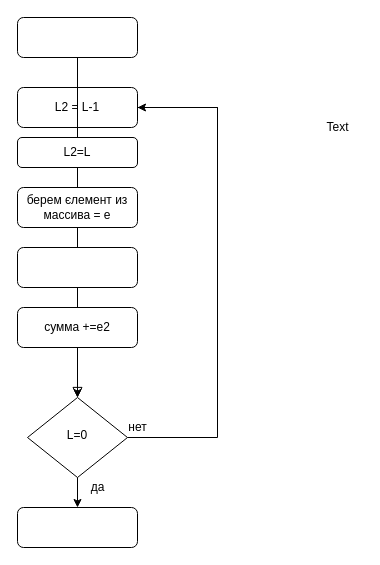
This 380x565 diagram has some shape labels left out. The centre of each missing label's shape, as x and y in pixels:
Maccив L= длинна: (77,37)
е2= е*е: (77,267)
конец: (77,527)
